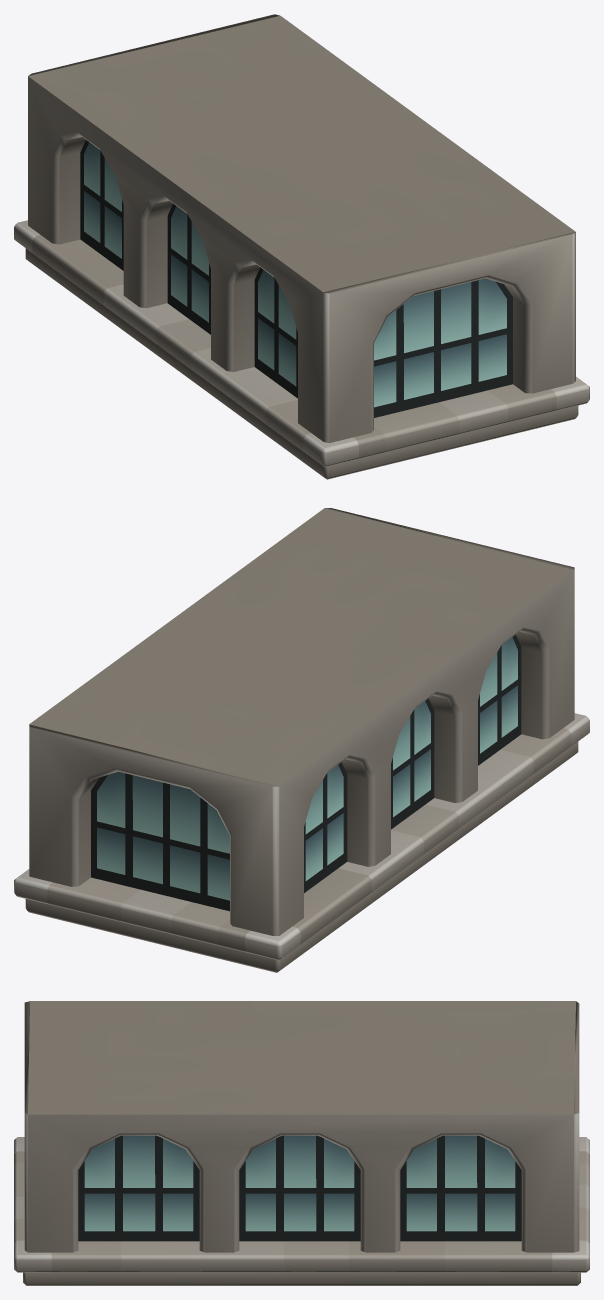
Rendered from office_building_type2_single_floor1_cream.fbx.
3 views of the same model, one above another, from view 1: azimuth 30°, elevation 25°; view 2: azimuth 150°, elevation 25°; view 3: azimuth 270°, elevation 25° (orthographic). The views are drawn at different scales.
Parts seen in each view (by area): view 1: office_building_type2_single_floor1_cream; view 2: office_building_type2_single_floor1_cream; view 3: office_building_type2_single_floor1_cream.
Boxes of the visible parts, x1,y1,x2,y2 form: office_building_type2_single_floor1_cream: (14,14,589,479); office_building_type2_single_floor1_cream: (14,508,589,972); office_building_type2_single_floor1_cream: (14,1001,589,1285).
Size of the model in its own units: 800 by 531 by 1610.
